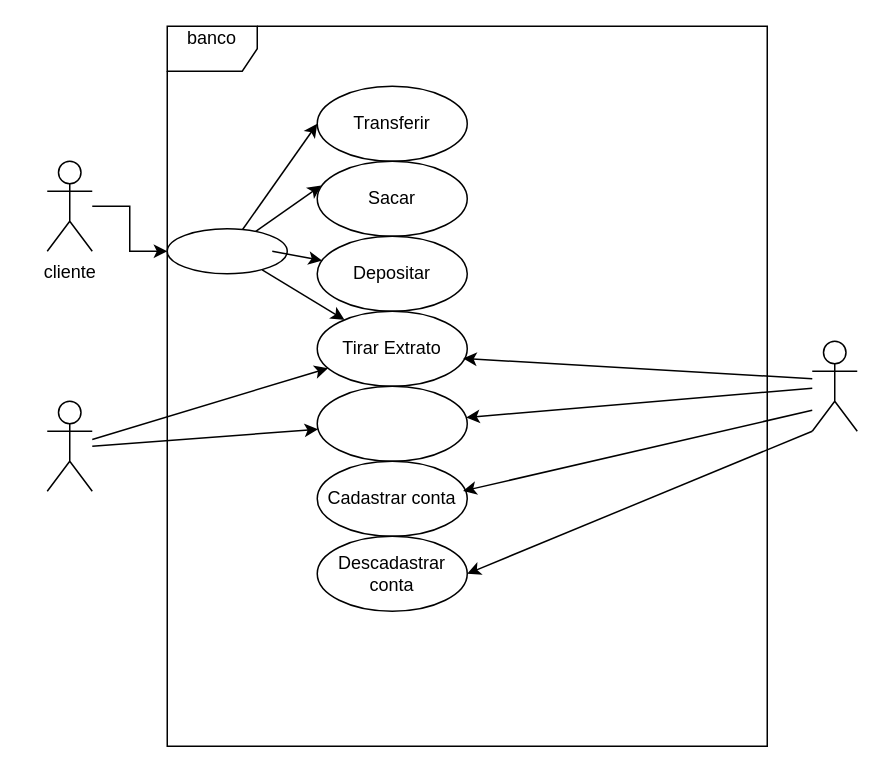
The diagram is 891 pixels wide and 773 high, and some of its shapes have lost their labels. The box of each missing label's shape, as (x1, y1, x2, y2) in pixels:
autenticar: (166, 227, 287, 274)
funcionario: (46, 400, 92, 491)
gerente: (811, 340, 857, 431)
solicitar Cartâo: (316, 385, 467, 461)
